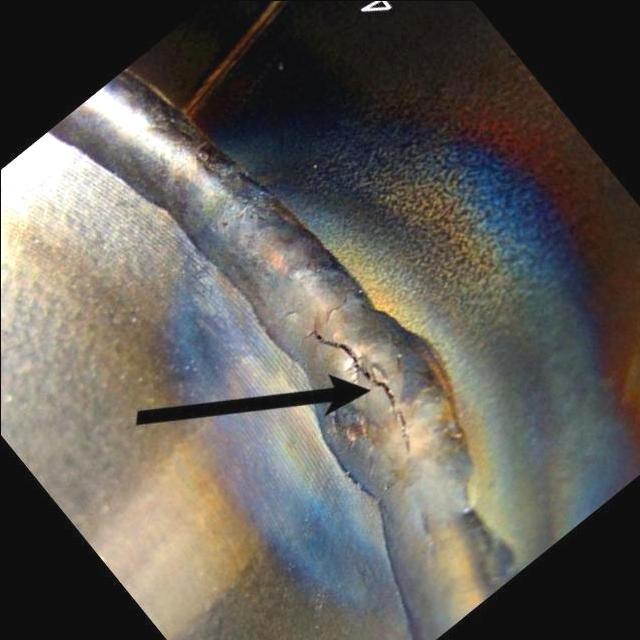defect: (294, 322, 414, 455)
